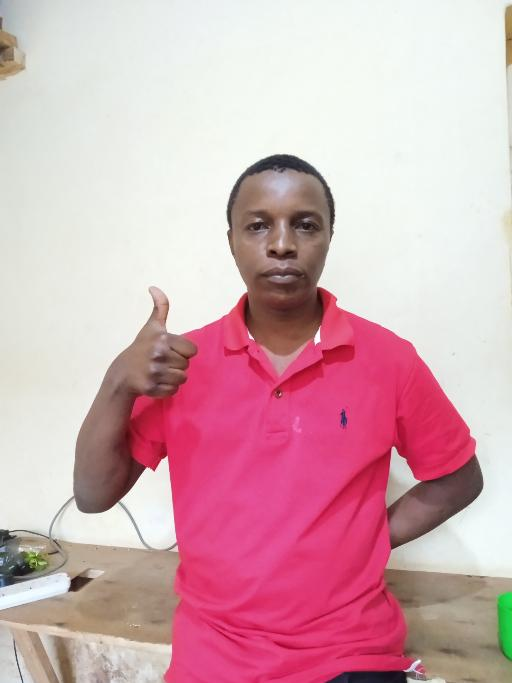like: (122, 283, 198, 400)
